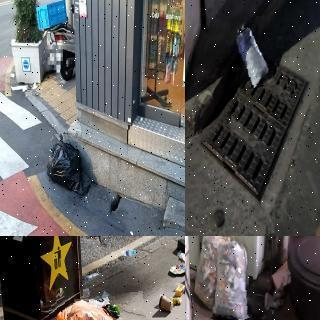Garbage: (214, 236, 250, 320), (44, 132, 88, 200), (40, 294, 151, 320), (233, 16, 272, 89), (195, 236, 222, 306)
